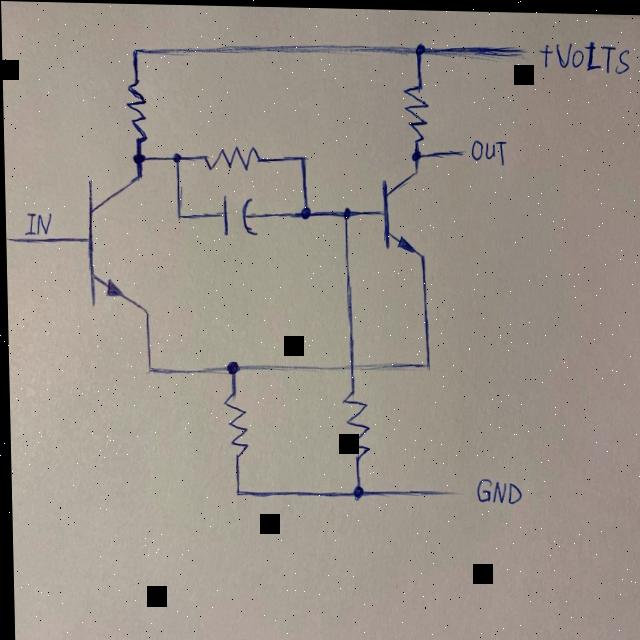capacitor: (208, 191, 266, 244)
crossover: (335, 348, 364, 375)
junction: (126, 36, 151, 62), (136, 357, 161, 382), (343, 477, 365, 504), (416, 349, 437, 377), (218, 354, 241, 379), (292, 197, 314, 223), (334, 199, 356, 223), (407, 33, 428, 57), (165, 146, 185, 168), (406, 143, 426, 165), (170, 202, 188, 226), (227, 480, 246, 501), (292, 146, 311, 166), (129, 148, 149, 165)
resistor: (340, 384, 369, 464), (218, 389, 248, 463), (198, 141, 263, 173), (121, 75, 150, 146), (401, 78, 428, 141)
terminal: (492, 36, 535, 63), (4, 232, 38, 251), (434, 480, 464, 499), (442, 138, 466, 156)
text: (553, 36, 630, 75), (472, 470, 518, 504), (468, 135, 507, 163), (21, 205, 52, 233), (537, 36, 552, 66)
transistor: (71, 170, 150, 315), (370, 167, 431, 255)
